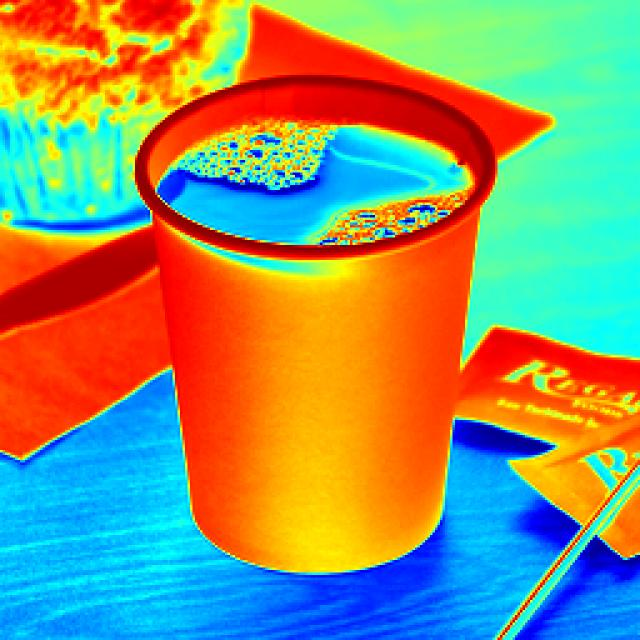Paper Cups: (142, 70, 474, 588)
